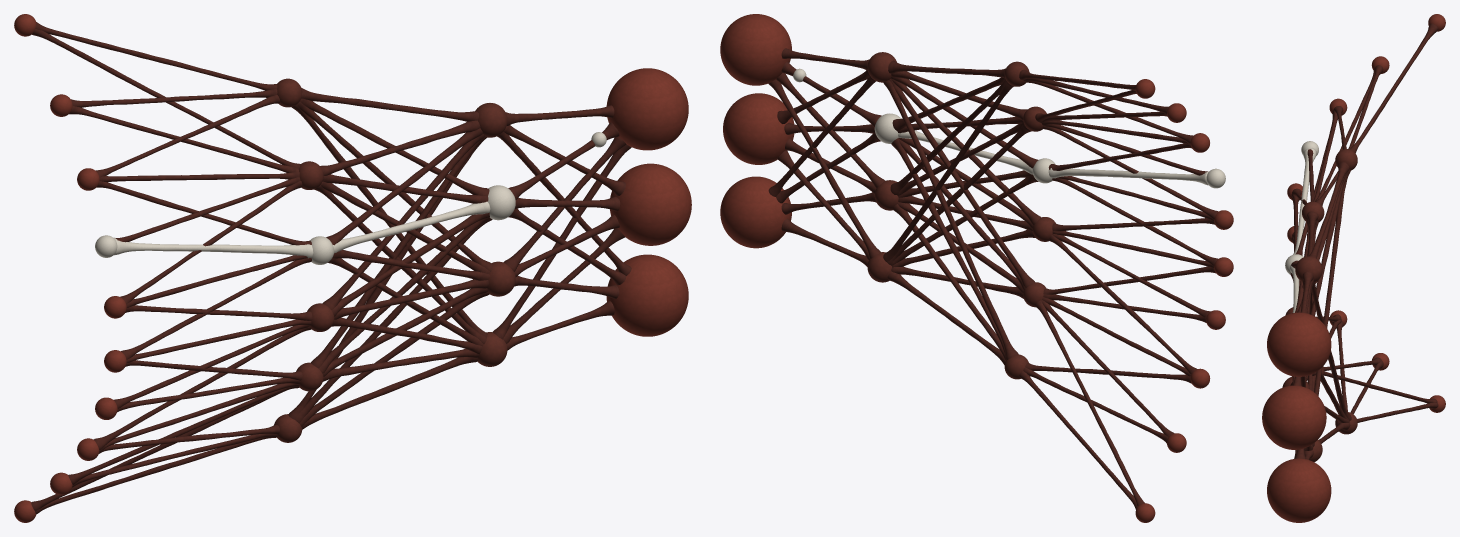
Rendered from loader-baked.glb.
3 renders of one model, left to right at view 1: azimuth 30°, elevation 25°; view 2: azimuth 150°, elevation 25°; view 3: azimuth 270°, elevation 25°, orthographic. The views are drawn at different scales.
Parts seen in each view (by area): view 1: HERO_n3_0, HERO_n3_1, HERO_n3_2, HERO_e0_3_2, HERO_e0_0_1, HERO_e1_3_0, HERO_e1_2_1, HERO_e2_3_0, HERO_e1_4_0, HERO_e0_0_0, HERO_e1_2_0, HERO_e1_0_2 (+54 smaller); view 2: HERO_n3_0, HERO_n3_1, HERO_n3_2, HERO_e1_5_0, HERO_e1_4_0, HERO_e2_3_0, HERO_e1_0_3, HERO_e1_5_1, HERO_e0_9_4, HERO_e0_3_2, HERO_e1_3_0, HERO_e1_1_3 (+50 smaller); view 3: HERO_n3_1, HERO_n3_2, HERO_n3_0, HERO_e1_0_3, HERO_e0_0_0, HERO_e1_0_0, HERO_e1_0_2, HERO_e0_3_2, HERO_e1_5_0, HERO_e0_9_4, HERO_n2_0, HERO_e0_1_1 (+17 smaller).
Part boxes in pixels (bbox=[...]): HERO_n3_0: bbox=[606, 68, 688, 150]; HERO_n3_1: bbox=[610, 163, 691, 245]; HERO_n3_2: bbox=[606, 254, 688, 336]; HERO_e0_3_2: bbox=[113, 237, 313, 258]; HERO_e0_0_1: bbox=[32, 29, 300, 168]; HERO_e1_3_0: bbox=[322, 134, 485, 309]; HERO_e1_2_1: bbox=[333, 201, 490, 253]; HERO_e2_3_0: bbox=[492, 144, 631, 339]; HERO_e1_4_0: bbox=[311, 136, 486, 368]; HERO_e0_0_0: bbox=[35, 22, 277, 90]; HERO_e1_2_0: bbox=[326, 128, 482, 245]; HERO_e1_0_2: bbox=[297, 101, 492, 271]; HERO_n3_0: bbox=[720, 14, 791, 85]; HERO_n3_1: bbox=[723, 93, 794, 164]; HERO_n3_2: bbox=[720, 176, 791, 248]; HERO_e1_5_0: bbox=[883, 80, 1018, 359]; HERO_e1_4_0: bbox=[889, 79, 1034, 287]; HERO_e2_3_0: bbox=[768, 79, 880, 258]; HERO_e1_0_3: bbox=[883, 81, 1013, 261]; HERO_e1_5_1: bbox=[891, 138, 1006, 359]; HERO_e0_9_4: bbox=[1035, 300, 1144, 505]; HERO_e0_3_2: bbox=[1048, 168, 1208, 185]; HERO_e1_3_0: bbox=[890, 78, 1040, 224]; HERO_e1_1_3: bbox=[887, 124, 1031, 264]; HERO_n3_1: bbox=[1262, 385, 1326, 449]; HERO_n3_2: bbox=[1267, 458, 1331, 522]; HERO_n3_0: bbox=[1267, 312, 1331, 376]; HERO_e1_0_3: bbox=[1314, 169, 1350, 395]; HERO_e0_0_0: bbox=[1349, 23, 1438, 153]; HERO_e1_0_0: bbox=[1309, 162, 1349, 258]; HERO_e1_0_2: bbox=[1310, 169, 1349, 316]; HERO_e0_3_2: bbox=[1293, 148, 1316, 255]; HERO_e1_5_0: bbox=[1311, 282, 1351, 420]; HERO_e0_9_4: bbox=[1323, 371, 1437, 403]; HERO_n2_0: bbox=[1295, 256, 1322, 282]; HERO_e0_1_1: bbox=[1315, 68, 1381, 201].
Size of the model in its own units: 6.51 by 5.44 by 2.28.
4 materials, 4 textured.
